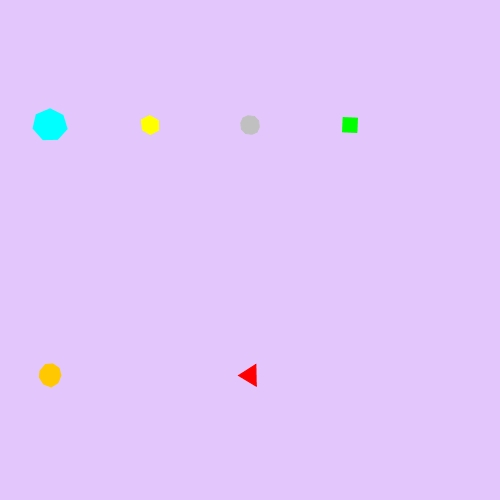decagon: (235, 111, 265, 139)
heptagon: (29, 105, 71, 145)
hexagon: (135, 112, 165, 138)
nonagon: (34, 360, 66, 391)
quadrilateral: (335, 110, 365, 140)
triangle: (236, 360, 264, 390)
